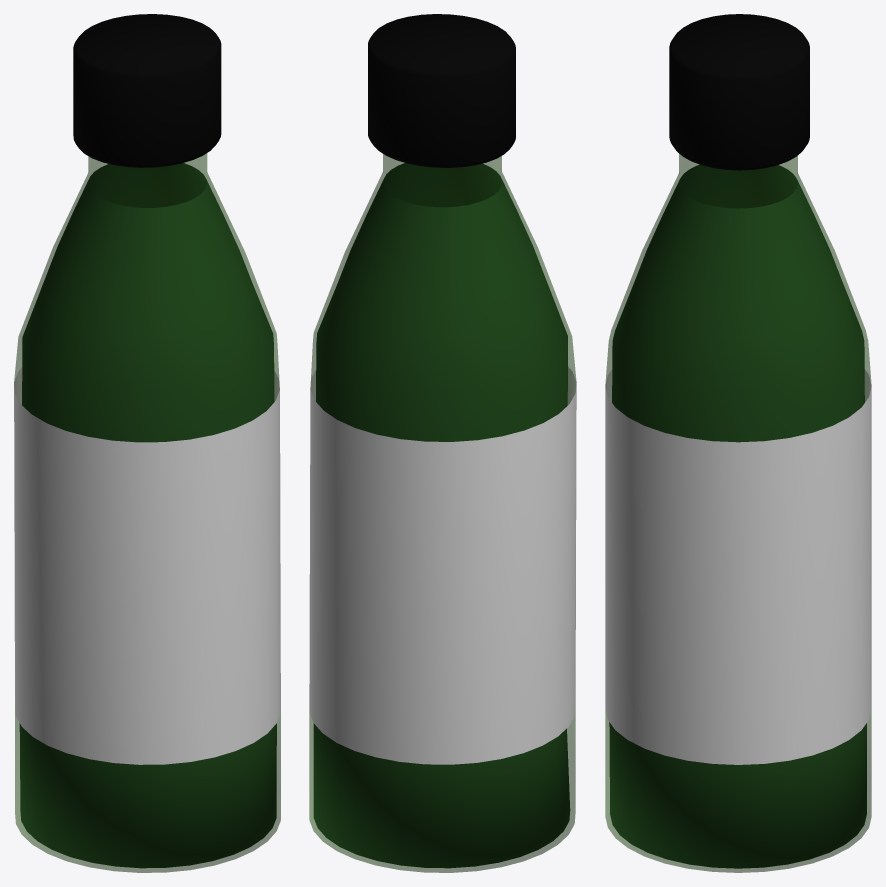
The model's file is smallHeal.gltf.
The picture shows the model from 3 angles, left to right: view 1: azimuth 30°, elevation 25°; view 2: azimuth 150°, elevation 25°; view 3: azimuth 270°, elevation 25°; orthographic projection.
Visible parts, largest first — view 1: bottle, liquid, cap; view 2: bottle, liquid, cap; view 3: bottle, liquid, cap.
Boxes of the visible parts, left/top/right/bottom form: bottle: left=14, top=153, right=280, bottom=872; liquid: left=19, top=163, right=276, bottom=868; cap: left=73, top=14, right=221, bottom=167; bottle: left=309, top=154, right=576, bottom=872; liquid: left=313, top=163, right=570, bottom=868; cap: left=368, top=14, right=515, bottom=167; bottle: left=605, top=154, right=871, bottom=872; liquid: left=609, top=164, right=866, bottom=868; cap: left=669, top=14, right=809, bottom=170.
Bounding box in the file's own units: 0.1552 × 0.4948 × 0.1547.
